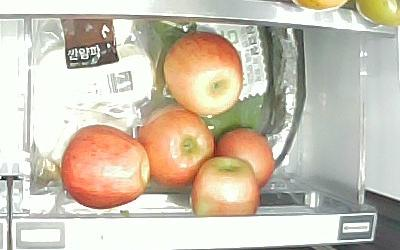apple: (61, 124, 151, 208), (163, 31, 243, 117), (142, 109, 215, 188), (191, 157, 259, 217), (215, 127, 276, 189)
